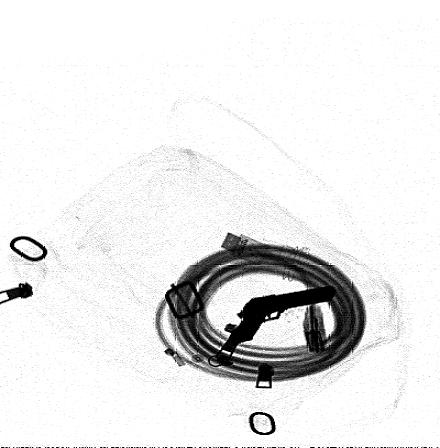Gun: (224, 286, 334, 352)
